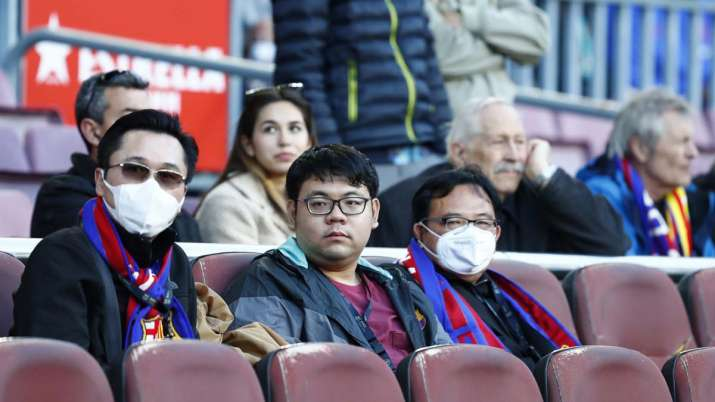with_mask: (125, 152, 182, 219), (445, 212, 494, 259)
without_mask: (306, 187, 366, 252), (491, 124, 522, 192), (266, 110, 298, 163), (673, 125, 696, 182)
